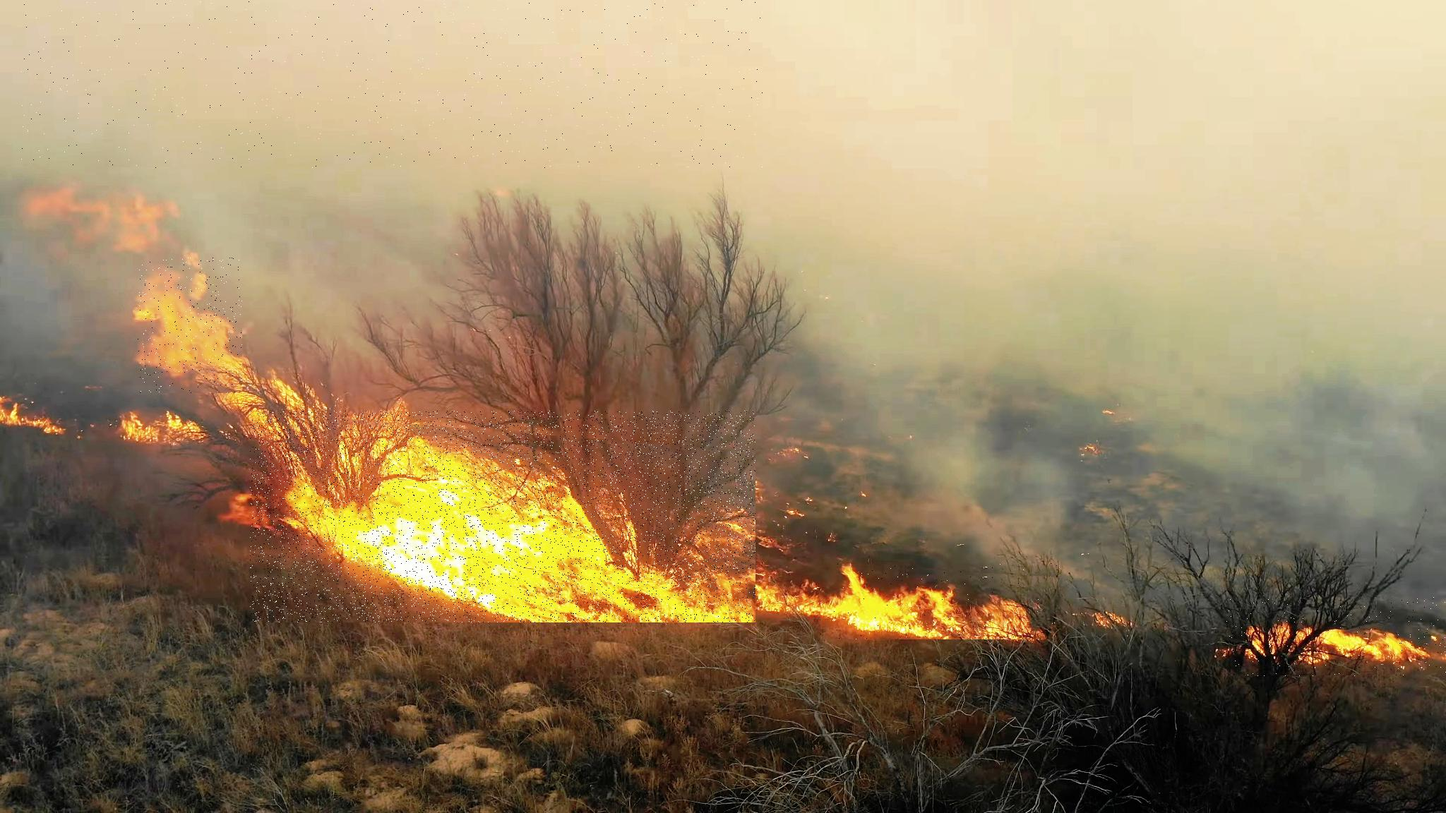fire: (250, 411, 755, 622), (820, 563, 1058, 639), (1226, 597, 1446, 676), (138, 258, 242, 393)
smoke: (21, 0, 763, 168)
